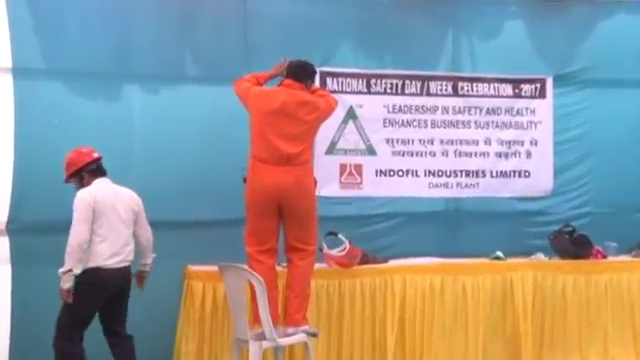helmet: (63, 145, 100, 184)
helmet_off: (277, 55, 320, 93)
helmet_on: (63, 145, 109, 191)
person: (232, 55, 334, 340), (52, 146, 158, 360)
